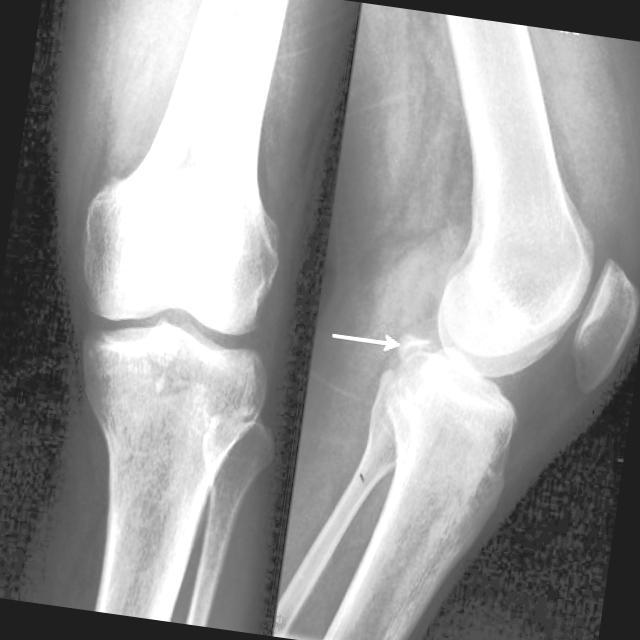Avlusion Fracture: (378, 313, 437, 367)
